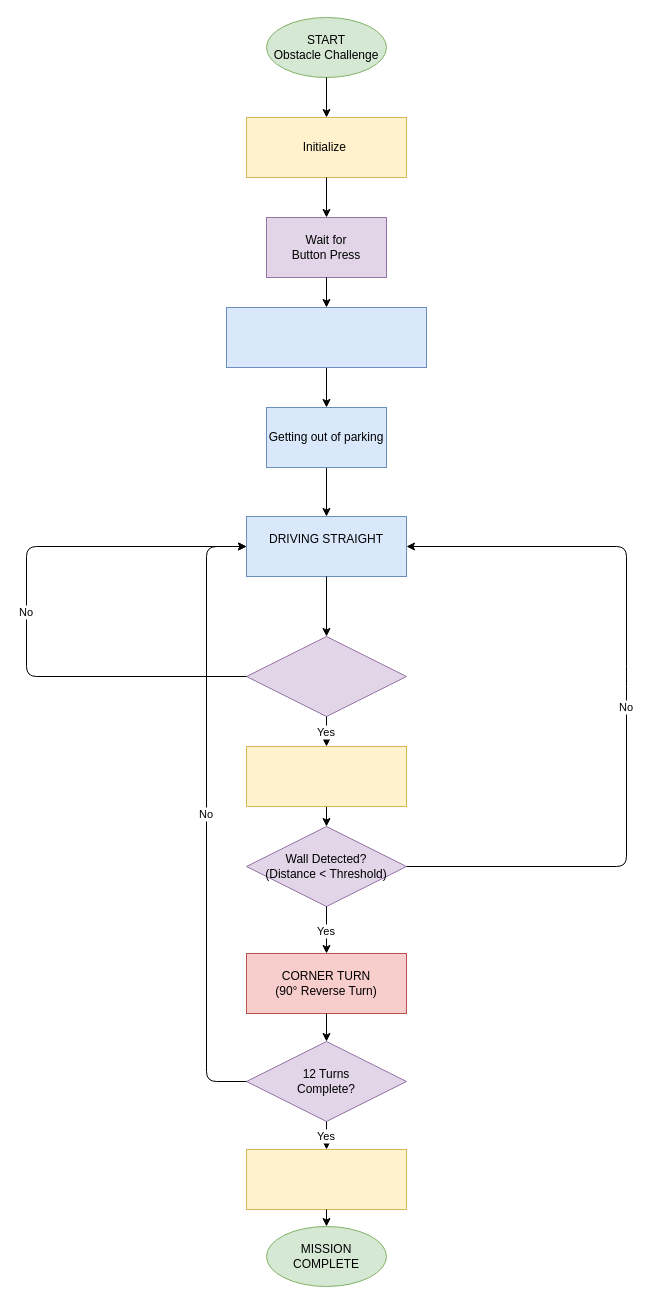
The diagram is 652 pixels wide and 1304 high, and some of its shapes have lost their labels. Each missing label, with the centre of its shape:
"BLOCK Avoidance (Left From Green and Right From RED )" goes at point (326, 776).
"Block Detected? (Area > Threshold)" goes at point (326, 676).
"Detect Driving Direction (Compare Left/Right Sensors)" goes at point (326, 337).
"PARKING SEQUENCE" goes at point (326, 1179).
